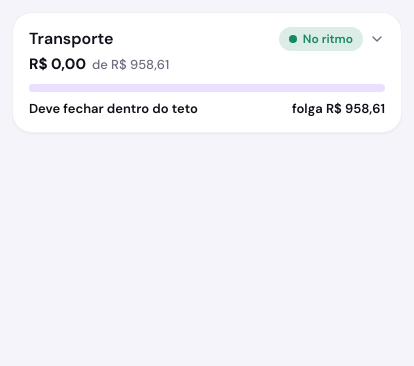
Scenario: lista de metas deste mês, compacta › aberto: mostra o plano e as quatro ações, e elas funcionam
Later steps or results of the test are not shown.
Click the button with aria-label "Detalhes e ações" at x=71, y=38, box [13,13,401,132]
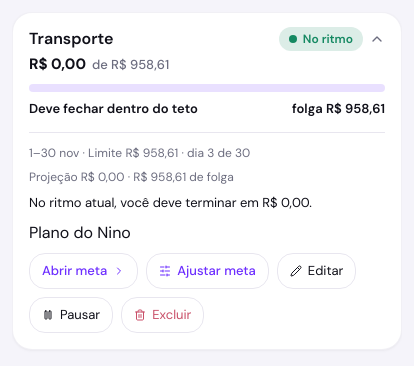
Now the text "Plano do Nino" is shown, box [29,222,131,243]
